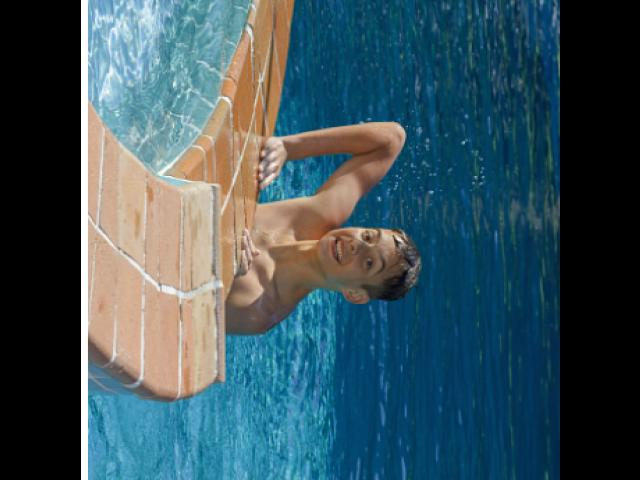swimming: (218, 90, 458, 362)
